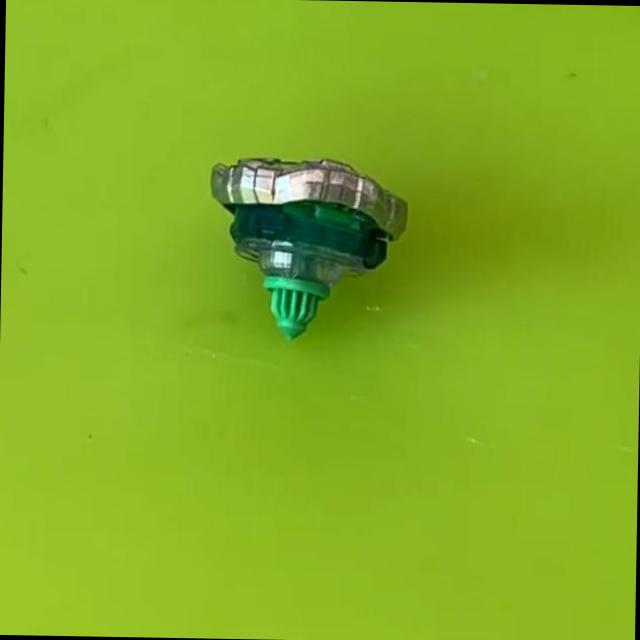Beyblade: (204, 156, 410, 344)
